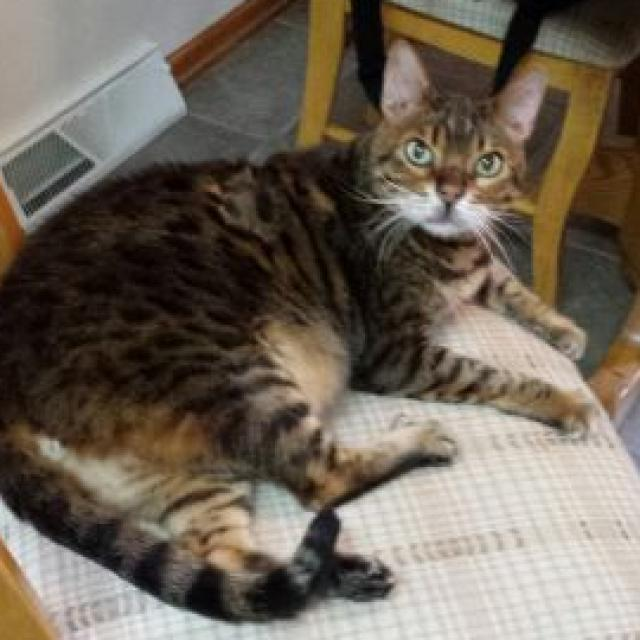Bengal: (0, 33, 604, 625)
